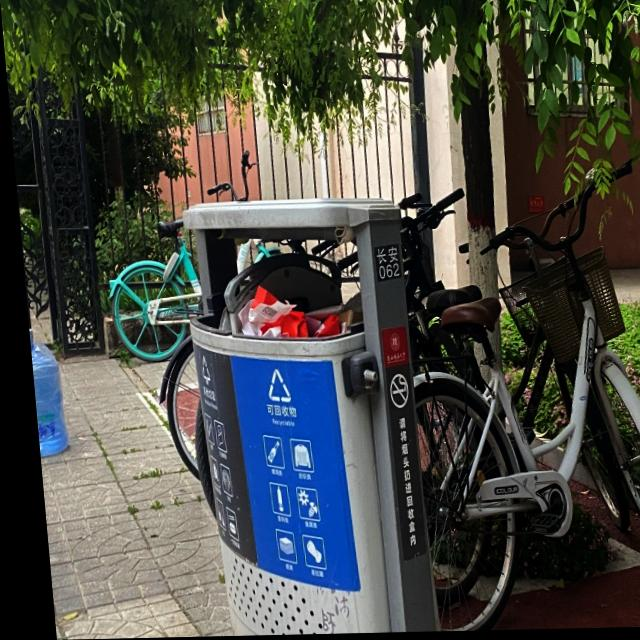overflow: (170, 199, 424, 636)
